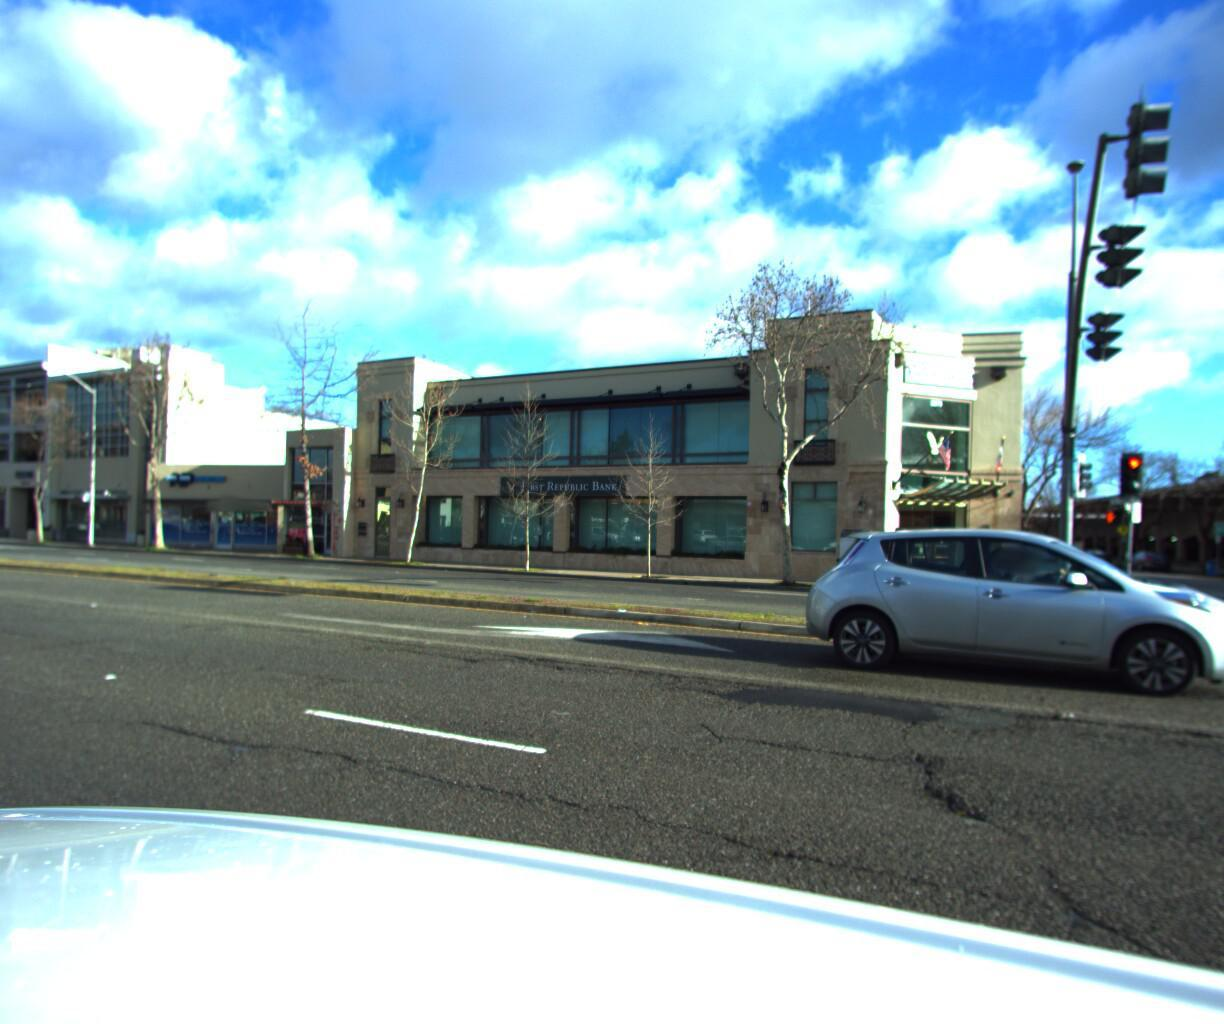car: (792, 518, 1224, 709), (1117, 539, 1172, 565), (1068, 537, 1110, 558)
